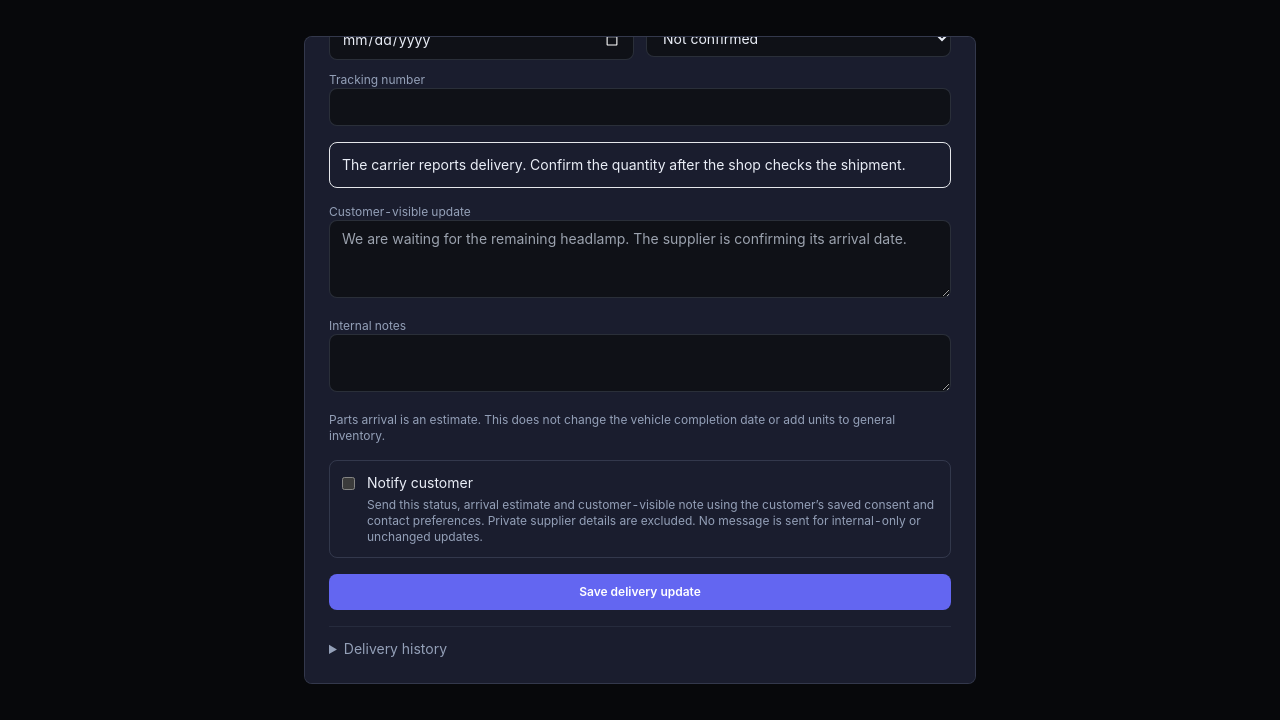
Test case: part delivery editor › carrier delivery does not preselect received and conflicts cannot silently overwrite
(page scrolled)
Check: the text "carrier reports delivery" is shown, box [342,156,905,173]
Click the button "Save delivery update" at (640, 592), box [329,574,951,610]
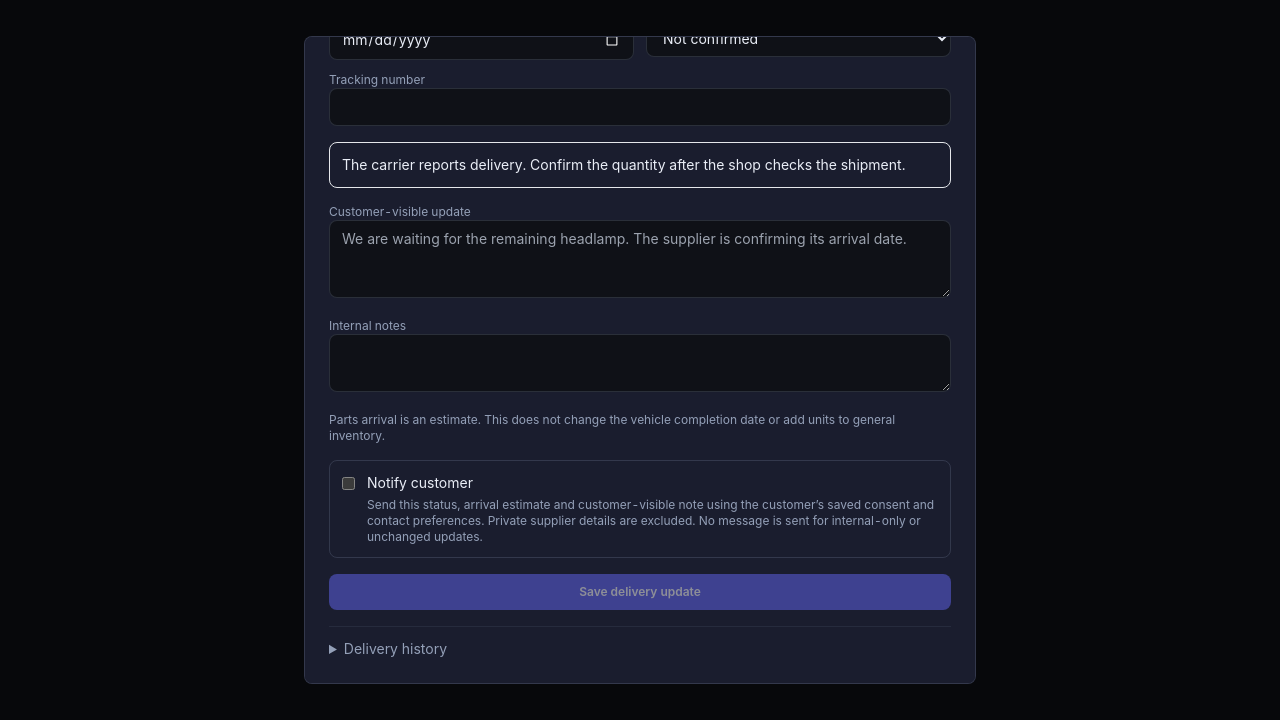
Check: the button "Save delivery update" is disabled, box [329,574,951,610]
